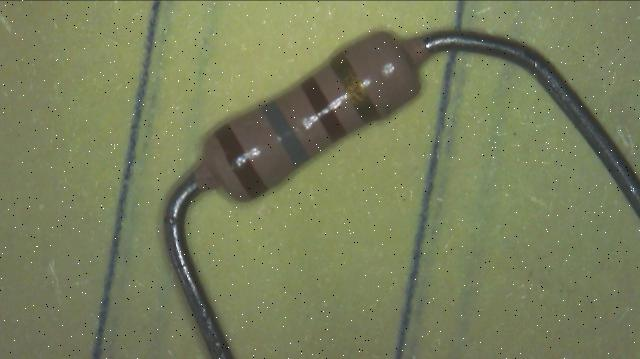brown: (215, 124, 268, 198), (301, 76, 347, 140)
gold: (330, 53, 380, 122)
grey: (260, 100, 310, 166)
resistor: (160, 3, 458, 228)
